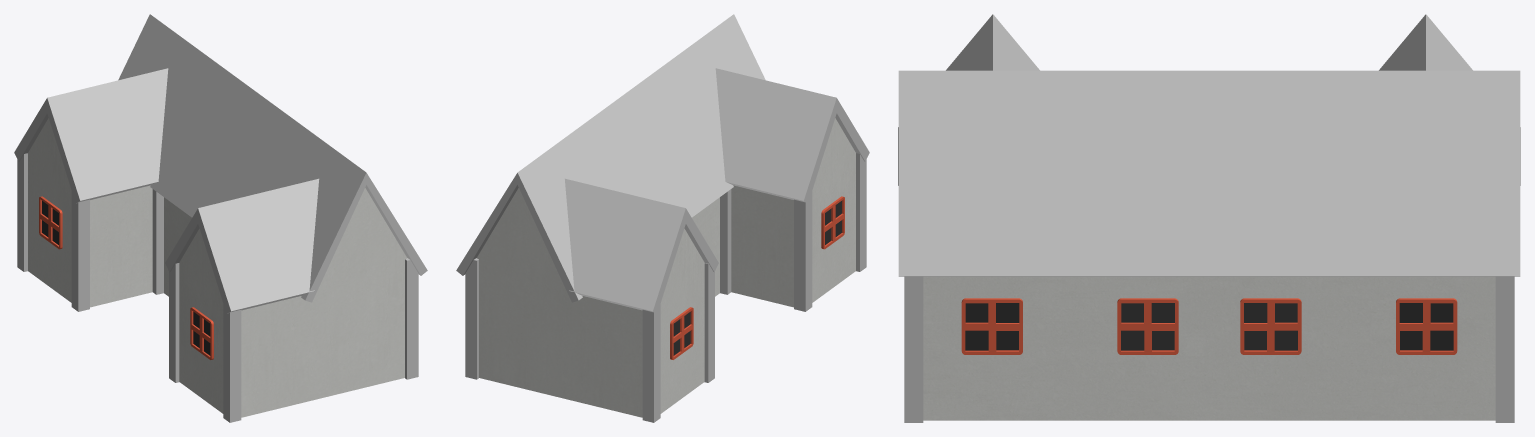
File: 村長のおうち.fbx
3 views of the same model, side by side, from view 1: azimuth 30°, elevation 25°; view 2: azimuth 150°, elevation 25°; view 3: azimuth 270°, elevation 25° (orthographic). The views are drawn at different scales.
Parts seen in each view (by area): view 1: 立方体.117; view 2: 立方体.117; view 3: 立方体.117.
Part boxes in pixels (x1=…): 立方体.117: x1=14, y1=14, x2=427, y2=422; 立方体.117: x1=456, y1=14, x2=869, y2=422; 立方体.117: x1=898, y1=14, x2=1520, y2=422.
Size of the model in its own units: 7986 by 8491 by 15242.
